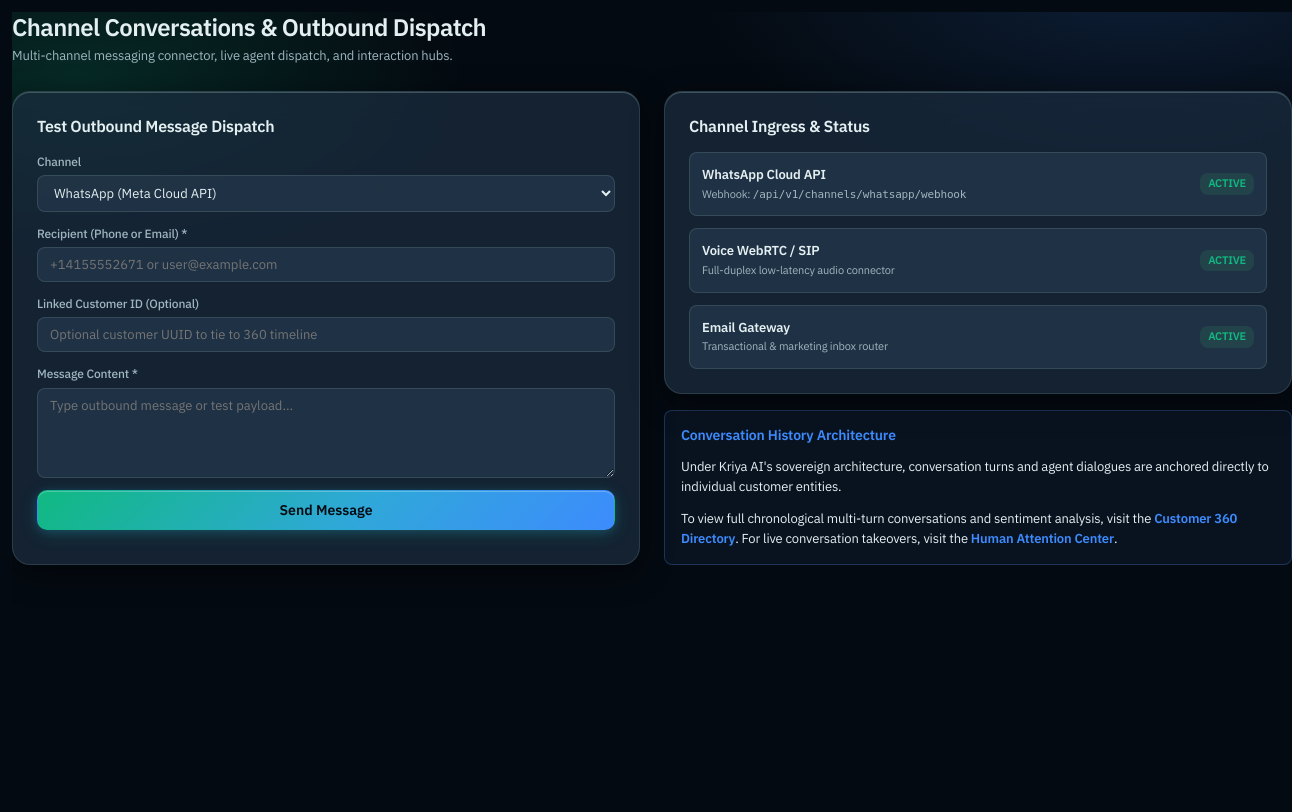
Test case: Conversations Page › allows submitting outbound message to /api/v1/channels/send
Step 1. Type "+14155551234" into the field labelled "Recipient (Phone or Email) *" → (326, 265), box 37,247 -> 615,282
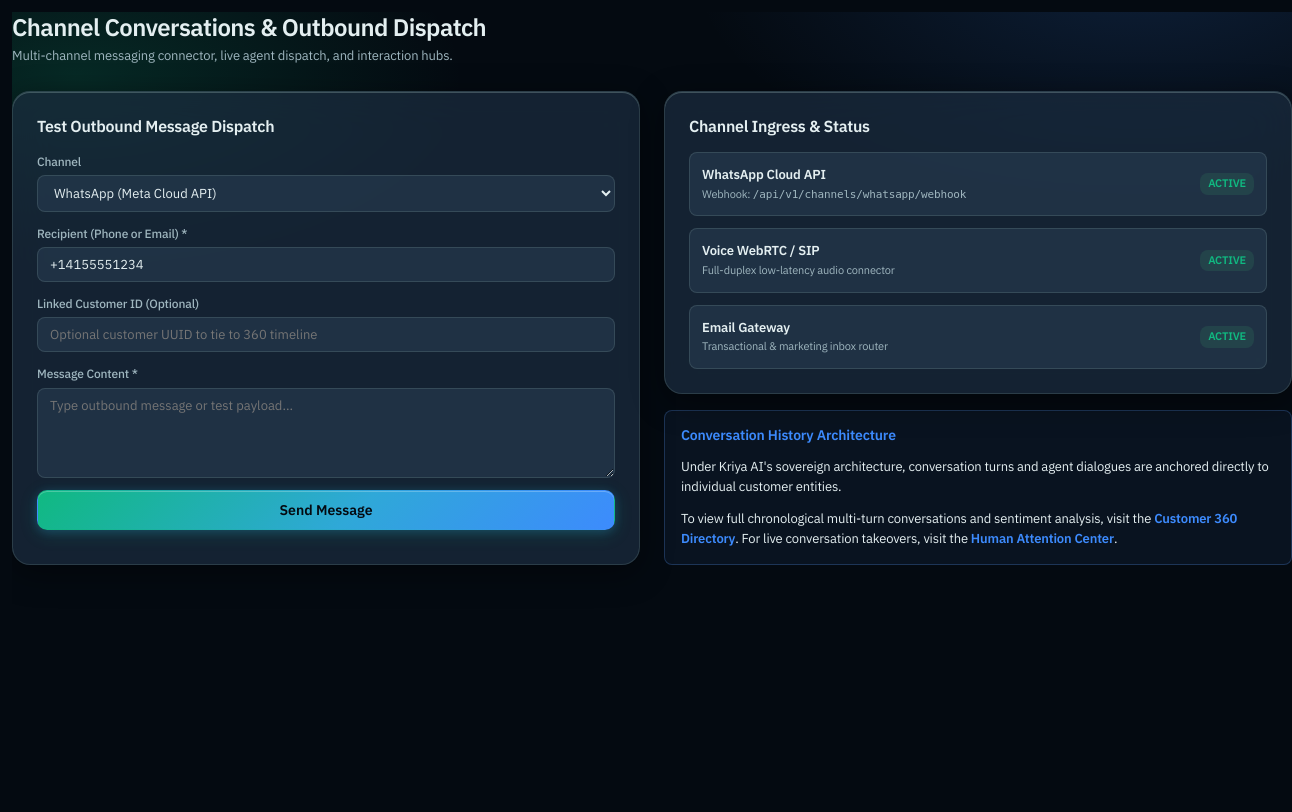
Step 2. Type "Your scheduled appointment is confirmed." into the text box labelled "Message Content *" → (326, 432), box 37,388 -> 615,478
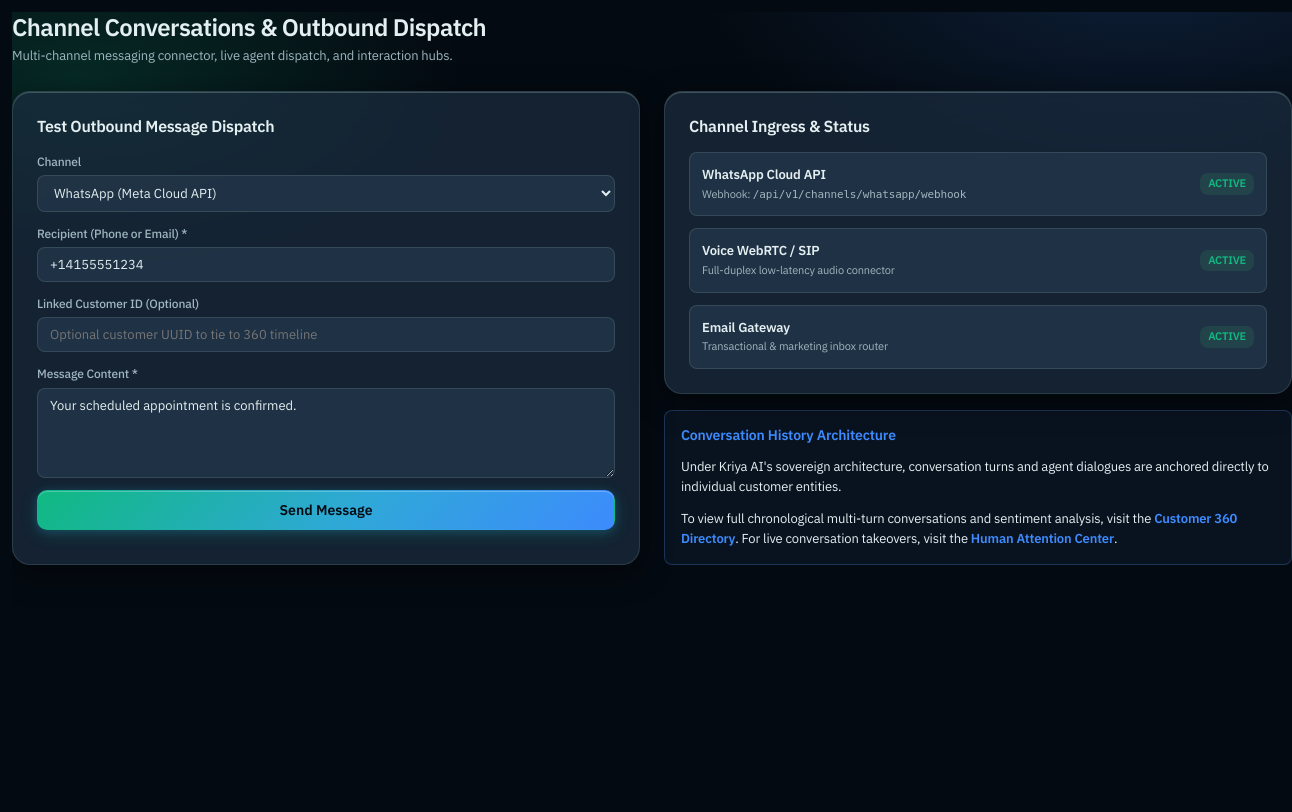
Step 3. Click the button "Send Message" → (326, 510), box 37,490 -> 615,530
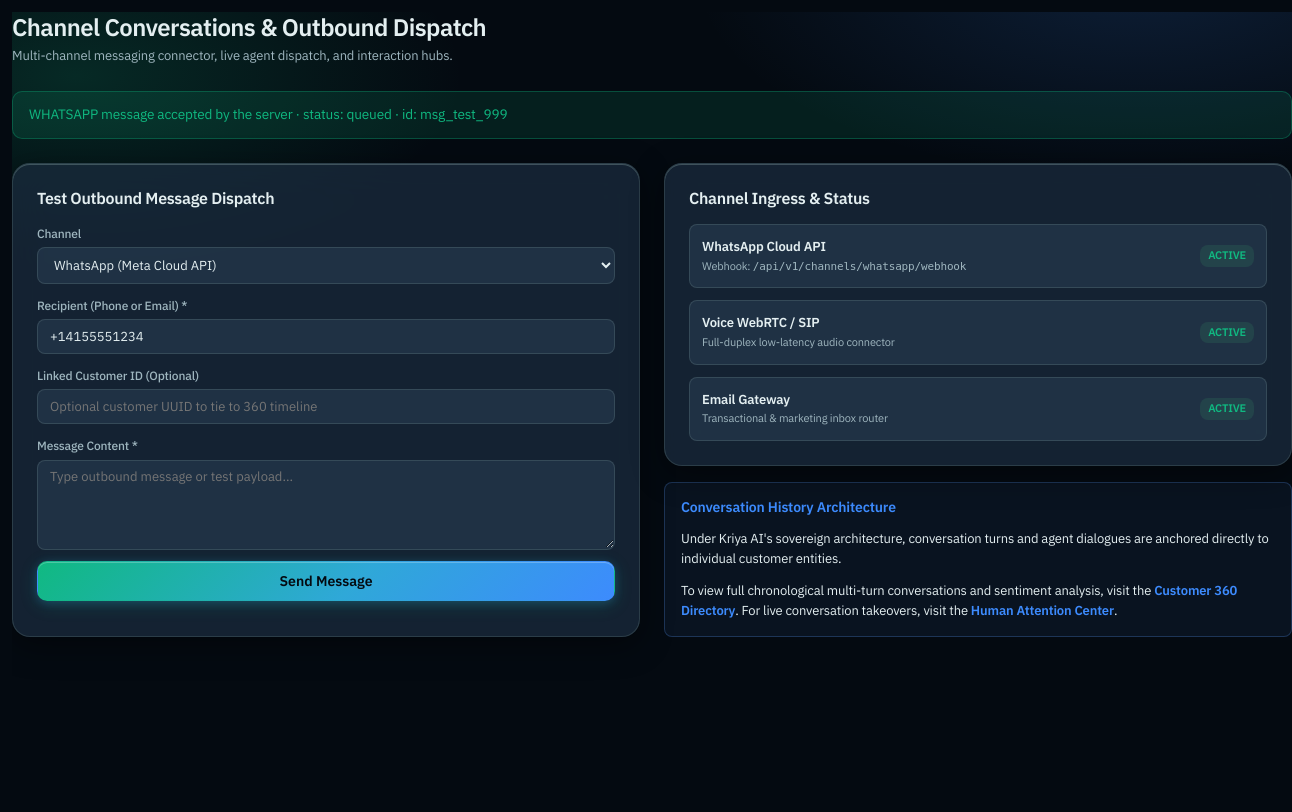
Check: the text "WHATSAPP message accepted by the server · status: queued · id: msg_test_999" is shown, box 12,91 -> 1291,139
